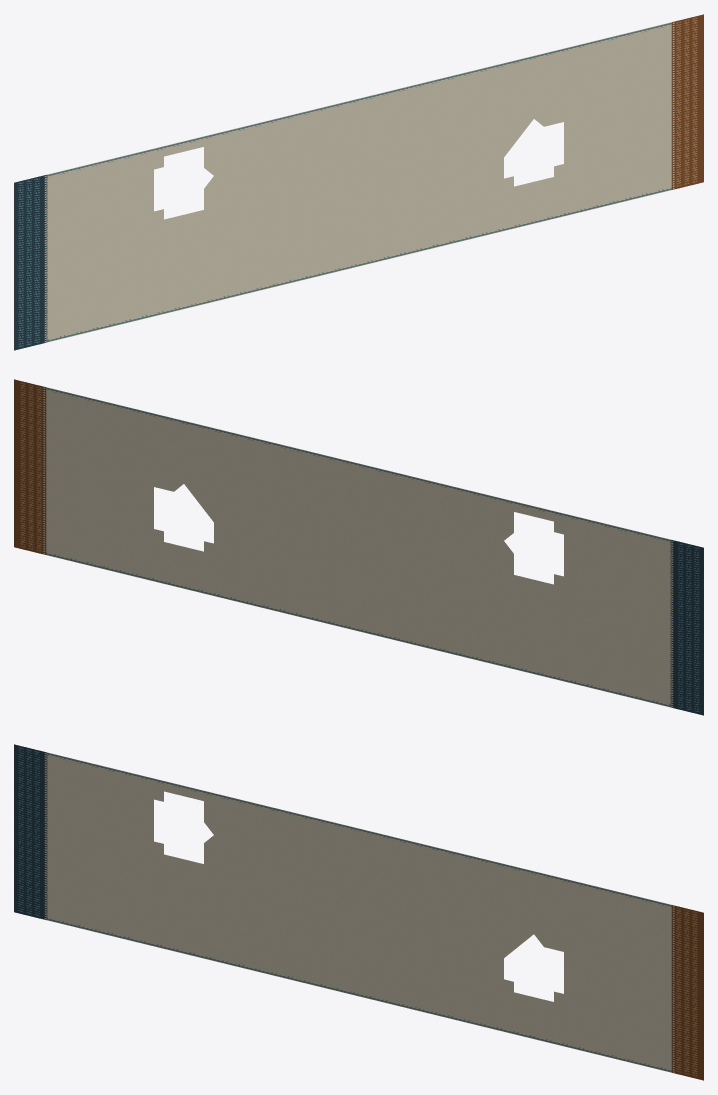
The model's file is cotton.obj.
3 views of the same model, one above another, from view 1: azimuth 30°, elevation 25°; view 2: azimuth 150°, elevation 25°; view 3: azimuth 330°, elevation 25° (orthographic).
Bounding box in the file's own units: 0.86 × 0.2 × 0.
Materials: 1 (1 with a texture image).
